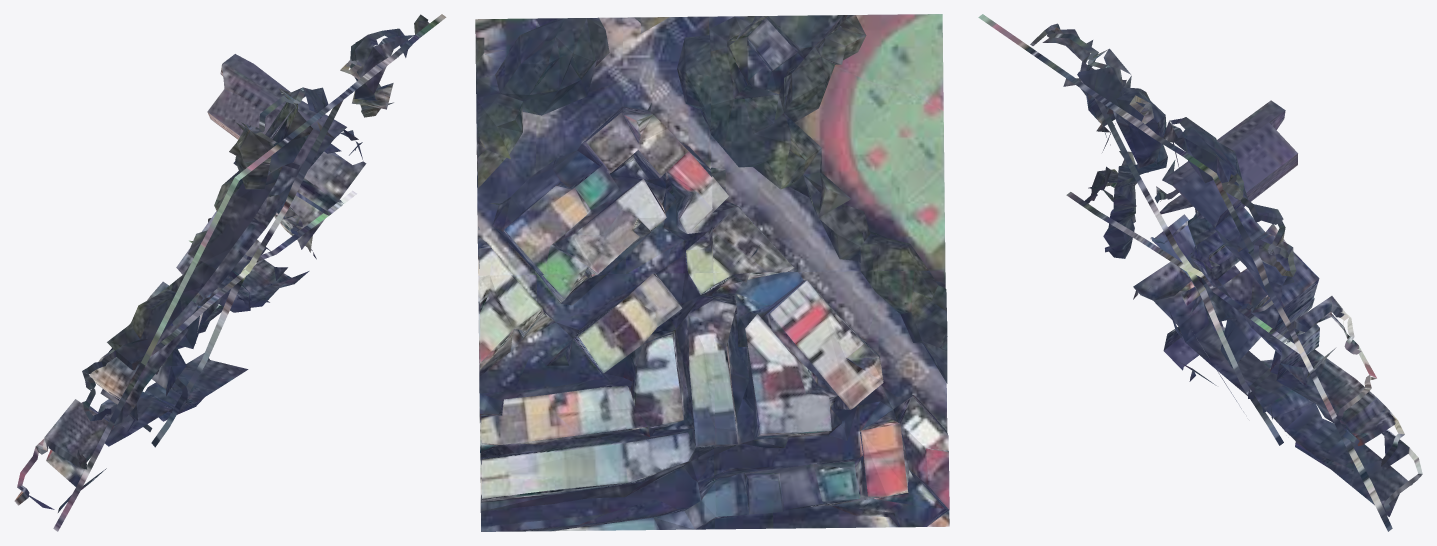
3 views of the same model, side by side, from view 1: azimuth 30°, elevation 25°; view 2: azimuth 150°, elevation 25°; view 3: azimuth 270°, elevation 25° (orthographic). The views are drawn at different scales.
Bounding box in the file's own units: 160 × 145 × 139.
1 material, 1 textured.
